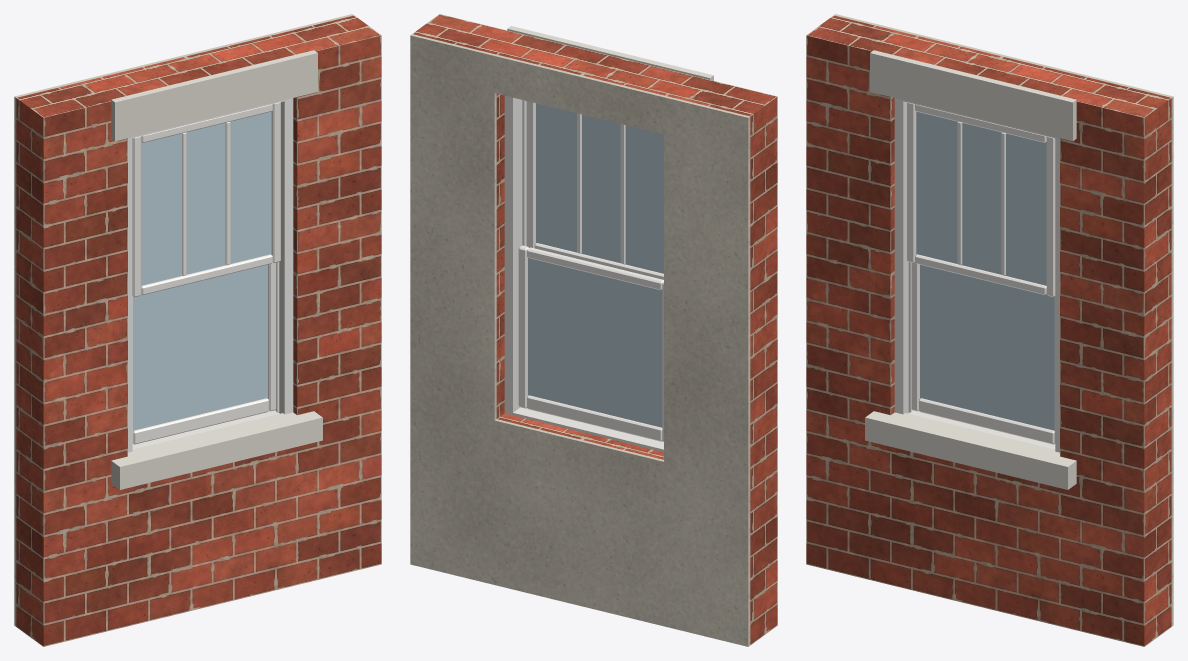
Rendered from wall_a2_window.glb.
3 renders of one model, left to right at view 1: azimuth 30°, elevation 25°; view 2: azimuth 150°, elevation 25°; view 3: azimuth 330°, elevation 25°, orthographic.
Parts seen in each view (by area): view 1: wall_a2_window_brick, wall_a2_window_glass, wall_a2_window_lime, wall_a2_window_sash, wall_a2_window_frame, wall_a2_window_plaster, wall_a2_window_trim; view 2: wall_a2_window_plaster, wall_a2_window_glass, wall_a2_window_brick, wall_a2_window_sash, wall_a2_window_frame, wall_a2_window_trim, wall_a2_window_lime; view 3: wall_a2_window_brick, wall_a2_window_glass, wall_a2_window_lime, wall_a2_window_sash, wall_a2_window_frame, wall_a2_window_plaster, wall_a2_window_trim.
Part boxes in pixels (left/top/right/bottom): wall_a2_window_brick: left=16, top=15, right=381, bottom=646; wall_a2_window_glass: left=133, top=111, right=271, bottom=430; wall_a2_window_lime: left=111, top=50, right=322, bottom=489; wall_a2_window_sash: left=132, top=102, right=280, bottom=444; wall_a2_window_frame: left=128, top=98, right=293, bottom=452; wall_a2_window_plaster: left=14, top=14, right=353, bottom=626; wall_a2_window_trim: left=132, top=410, right=279, bottom=449; wall_a2_window_plaster: left=410, top=34, right=750, bottom=646; wall_a2_window_glass: left=528, top=103, right=663, bottom=427; wall_a2_window_brick: left=412, top=14, right=777, bottom=645; wall_a2_window_sash: left=518, top=101, right=663, bottom=441; wall_a2_window_frame: left=504, top=95, right=526, bottom=415; wall_a2_window_trim: left=513, top=407, right=663, bottom=452; wall_a2_window_lime: left=507, top=26, right=713, bottom=80; wall_a2_window_brick: left=806, top=15, right=1171, bottom=646; wall_a2_window_glass: left=916, top=111, right=1054, bottom=430; wall_a2_window_lime: left=865, top=50, right=1076, bottom=489; wall_a2_window_sash: left=907, top=102, right=1055, bottom=444; wall_a2_window_frame: left=894, top=98, right=1059, bottom=452; wall_a2_window_plaster: left=834, top=14, right=1173, bottom=626; wall_a2_window_trim: left=908, top=410, right=1055, bottom=449.
Size of the model in its own units: 2 by 3 by 0.39.
Materials: 7 (2 with a texture image).
